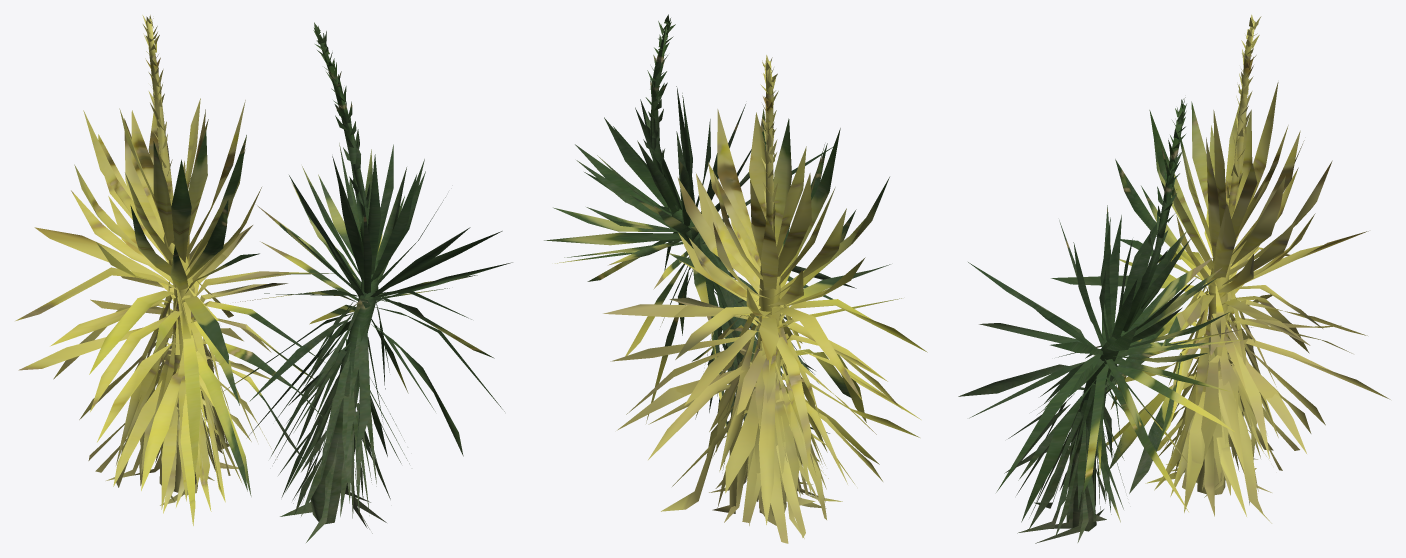
File: YUCA.fbx
The picture shows the model from 3 angles, left to right: view 1: azimuth 30°, elevation 25°; view 2: azimuth 150°, elevation 25°; view 3: azimuth 270°, elevation 25°; orthographic projection. The views are drawn at different scales.
Parts seen in each view (by area): view 1: MT_PM_Yucca_flaccida_01_03; view 2: MT_PM_Yucca_flaccida_01_03; view 3: MT_PM_Yucca_flaccida_01_03.
Part boxes in pixels (bbox=[...]): MT_PM_Yucca_flaccida_01_03: bbox=[15, 15, 512, 542]; MT_PM_Yucca_flaccida_01_03: bbox=[544, 14, 927, 543]; MT_PM_Yucca_flaccida_01_03: bbox=[958, 14, 1390, 543].
Bounding box in the file's own units: 1.8 × 2.02 × 1.7.
1 material, 1 textured.
